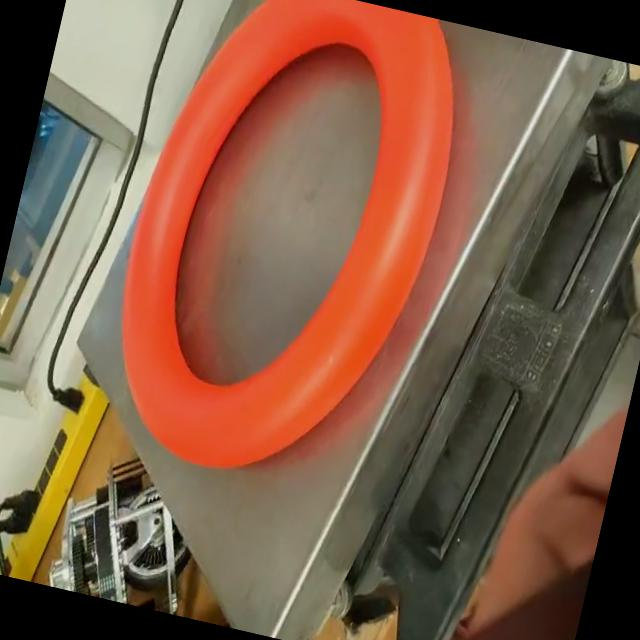note: (79, 0, 487, 511)
